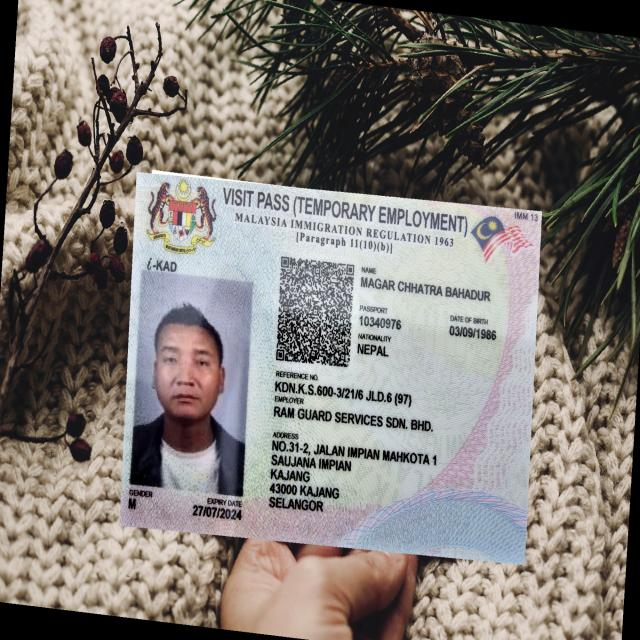ikad-temp: (119, 169, 542, 564)
